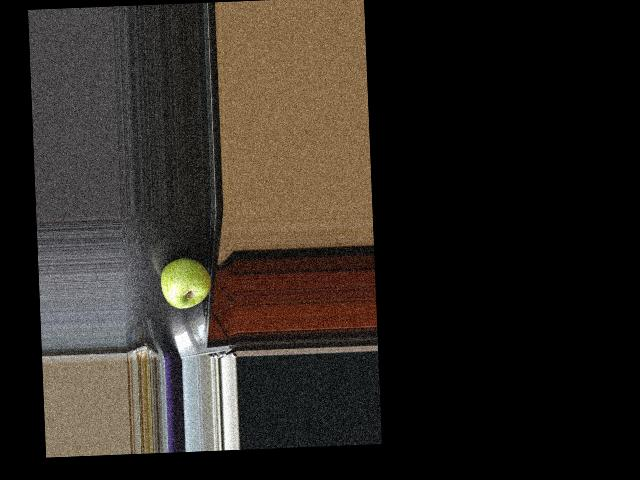apple: (157, 254, 212, 312)
